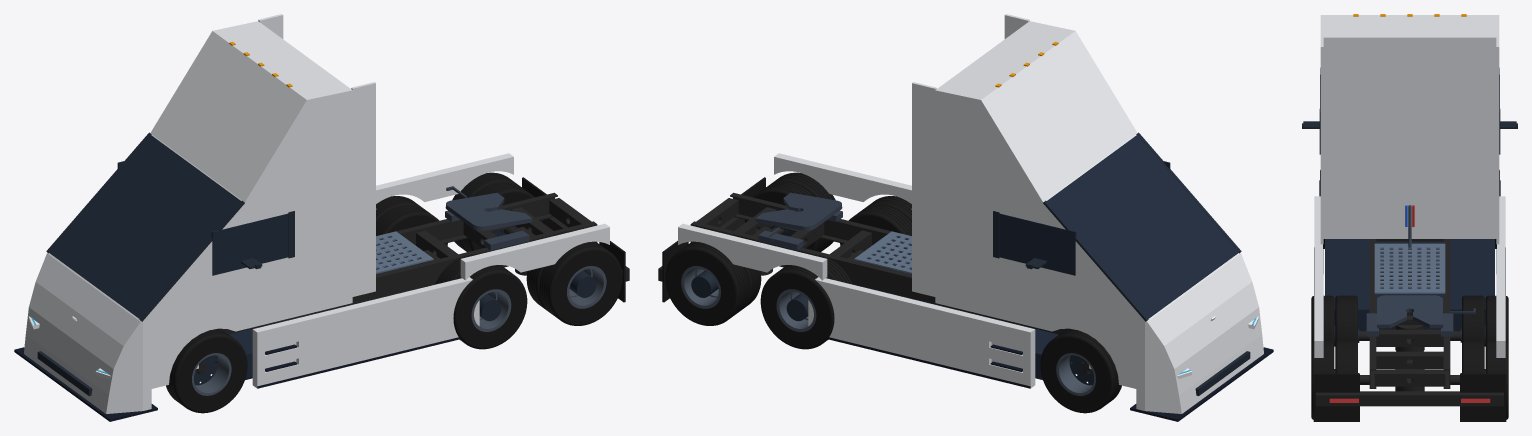
Rendered from tesla_semi.glb.
3 views of the same model, side by side, from view 1: azimuth 30°, elevation 25°; view 2: azimuth 150°, elevation 25°; view 3: azimuth 270°, elevation 25° (orthographic). The views are drawn at different scales.
Parts seen in each view (by area): view 1: cab_assembly/cab_body, cab_assembly/cockpit_greenhouse/windshield_glass, cab_assembly/side_skirting/aero_skirt_right, wheels_running_gear/drive_wheels_rear_right/inner_wheel/tire, wheels_running_gear/front_wheel_right/tire, wheels_running_gear/drive_wheels_mid_right/inner_wheel/tire, cab_assembly/cockpit_greenhouse/side_window_right, cab_assembly/side_skirting/rear_fender_right, cab_assembly/side_skirting/rear_fender_left, chassis/ladder_frame/chassis_rail_right, chassis/fifth_wheel_assembly/part13, chassis/ladder_frame/chassis_rail_left (+14 smaller); view 2: cab_assembly/cab_body, cab_assembly/cockpit_greenhouse/windshield_glass, cab_assembly/side_skirting/aero_skirt_left, wheels_running_gear/drive_wheels_rear_left/inner_wheel/tire, wheels_running_gear/front_wheel_left/tire, wheels_running_gear/drive_wheels_mid_left/inner_wheel/tire, cab_assembly/cockpit_greenhouse/side_window_left, cab_assembly/side_skirting/rear_fender_left, cab_assembly/side_skirting/rear_fender_right, chassis/ladder_frame/chassis_rail_left, chassis/fifth_wheel_assembly/part13, chassis/ladder_frame/chassis_rail_right (+14 smaller); view 3: cab_assembly/cab_body, chassis/traction_battery_pack, chassis/catwalk_assembly/catwalk_plate, chassis/rear_bumper_mudflaps/rear_bumper_beam, chassis/fifth_wheel_assembly/part13, chassis/rear_bumper_mudflaps/mudflap_left, chassis/rear_bumper_mudflaps/mudflap_right, chassis/ladder_frame/crossmember_7, chassis/ladder_frame/crossmember_6, chassis/ladder_frame/crossmember_5, wheels_running_gear/drive_wheels_mid_right/outer_wheel/tire, wheels_running_gear/drive_wheels_mid_left/outer_wheel/tire (+16 smaller).
Part boxes in pixels (bbox=[...]): cab_assembly/cab_body: bbox=[24, 14, 375, 413]; cab_assembly/cockpit_greenhouse/windshield_glass: bbox=[48, 135, 241, 318]; cab_assembly/side_skirting/aero_skirt_right: bbox=[252, 277, 479, 388]; wheels_running_gear/drive_wheels_rear_right/inner_wheel/tire: bbox=[539, 241, 622, 325]; wheels_running_gear/front_wheel_right/tire: bbox=[166, 328, 247, 413]; wheels_running_gear/drive_wheels_mid_right/inner_wheel/tire: bbox=[453, 265, 527, 349]; cab_assembly/cockpit_greenhouse/side_window_right: bbox=[211, 213, 288, 275]; cab_assembly/side_skirting/rear_fender_right: bbox=[460, 223, 609, 280]; cab_assembly/side_skirting/rear_fender_left: bbox=[376, 153, 513, 203]; chassis/ladder_frame/chassis_rail_right: bbox=[219, 221, 597, 334]; chassis/fifth_wheel_assembly/part13: bbox=[445, 192, 532, 230]; chassis/ladder_frame/chassis_rail_left: bbox=[376, 192, 557, 259]; cab_assembly/cab_body: bbox=[912, 14, 1263, 413]; cab_assembly/cockpit_greenhouse/windshield_glass: bbox=[1046, 135, 1239, 318]; cab_assembly/side_skirting/aero_skirt_left: bbox=[808, 277, 1035, 388]; wheels_running_gear/drive_wheels_rear_left/inner_wheel/tire: bbox=[665, 241, 748, 325]; wheels_running_gear/front_wheel_left/tire: bbox=[1040, 328, 1121, 413]; wheels_running_gear/drive_wheels_mid_left/inner_wheel/tire: bbox=[760, 265, 834, 349]; cab_assembly/cockpit_greenhouse/side_window_left: bbox=[999, 213, 1076, 275]; cab_assembly/side_skirting/rear_fender_left: bbox=[678, 223, 827, 280]; cab_assembly/side_skirting/rear_fender_right: bbox=[774, 153, 911, 203]; chassis/ladder_frame/chassis_rail_left: bbox=[690, 221, 1068, 334]; chassis/fifth_wheel_assembly/part13: bbox=[755, 192, 842, 230]; chassis/ladder_frame/chassis_rail_right: bbox=[730, 192, 911, 259]; cab_assembly/cab_body: bbox=[1320, 15, 1499, 244]; chassis/traction_battery_pack: bbox=[1325, 239, 1494, 330]; chassis/catwalk_assembly/catwalk_plate: bbox=[1374, 243, 1445, 293]; chassis/rear_bumper_mudflaps/rear_bumper_beam: bbox=[1316, 391, 1503, 406]; chassis/fifth_wheel_assembly/part13: bbox=[1377, 295, 1442, 328]; chassis/rear_bumper_mudflaps/mudflap_left: bbox=[1460, 373, 1506, 421]; chassis/rear_bumper_mudflaps/mudflap_right: bbox=[1313, 373, 1359, 421]; chassis/ladder_frame/crossmember_7: bbox=[1374, 369, 1445, 386]; chassis/ladder_frame/crossmember_6: bbox=[1376, 351, 1443, 368]; chassis/ladder_frame/crossmember_5: bbox=[1376, 329, 1443, 346]; wheels_running_gear/drive_wheels_mid_right/outer_wheel/tire: bbox=[1335, 295, 1357, 341]; wheels_running_gear/drive_wheels_mid_left/outer_wheel/tire: bbox=[1462, 295, 1484, 341].
Bounding box in the file's own units: 7.34 × 3.93 × 2.8.
